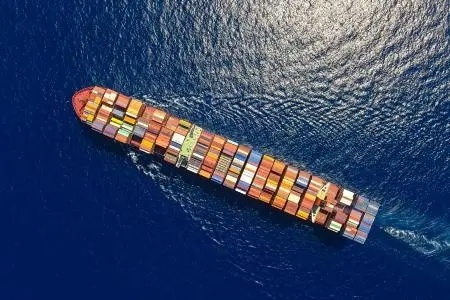Cargoship: (66, 85, 382, 245)
